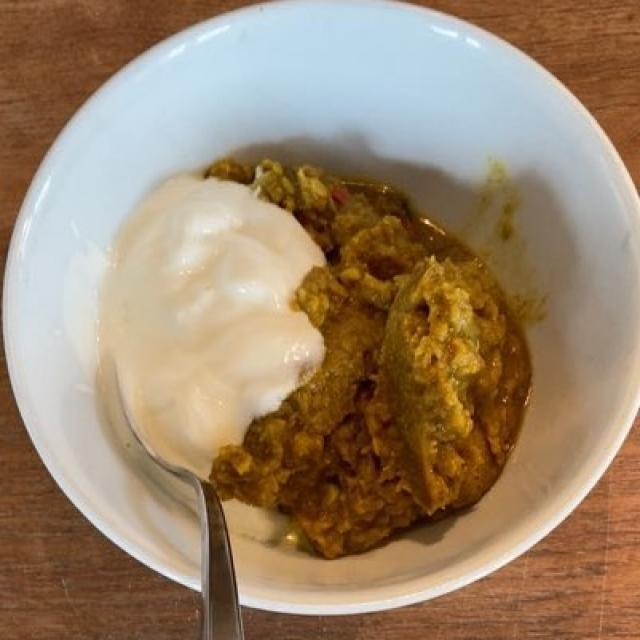yogurt: (104, 167, 336, 497)
